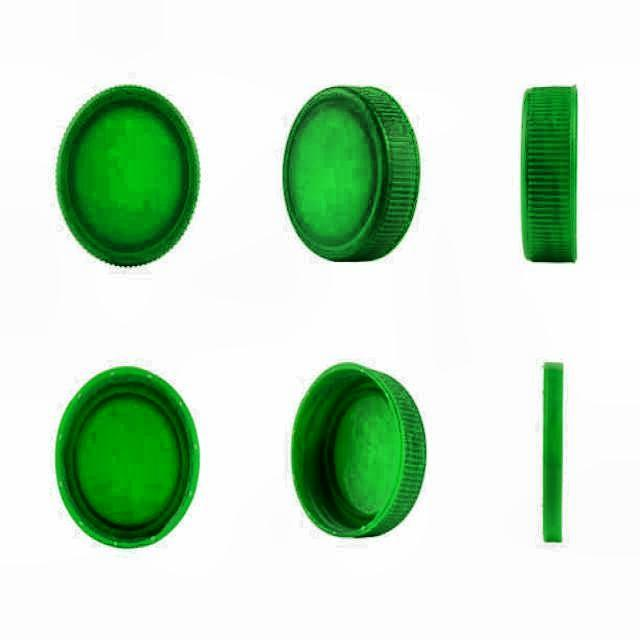plastic: (52, 366, 203, 552), (54, 84, 201, 270), (281, 85, 421, 265), (289, 362, 427, 541), (521, 86, 579, 266), (540, 362, 564, 547)
